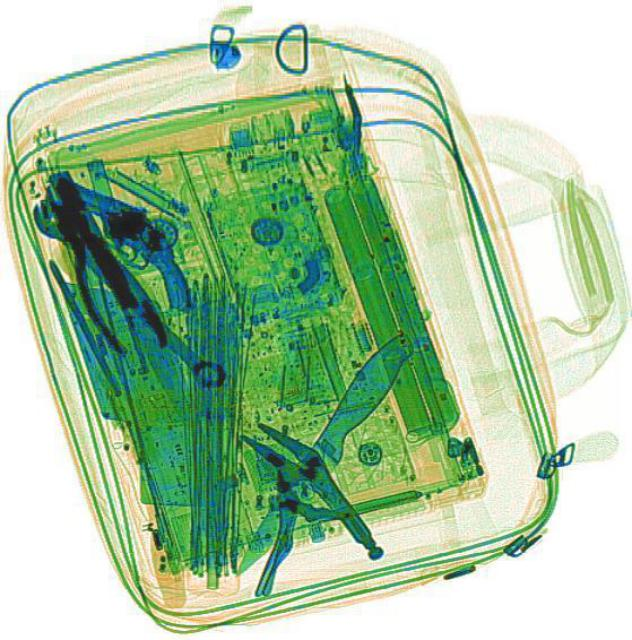Gun: (21, 169, 218, 311)
Knife: (219, 323, 419, 584), (76, 156, 213, 468)
Pliers: (27, 159, 170, 367)
Wrench: (24, 190, 231, 394)
